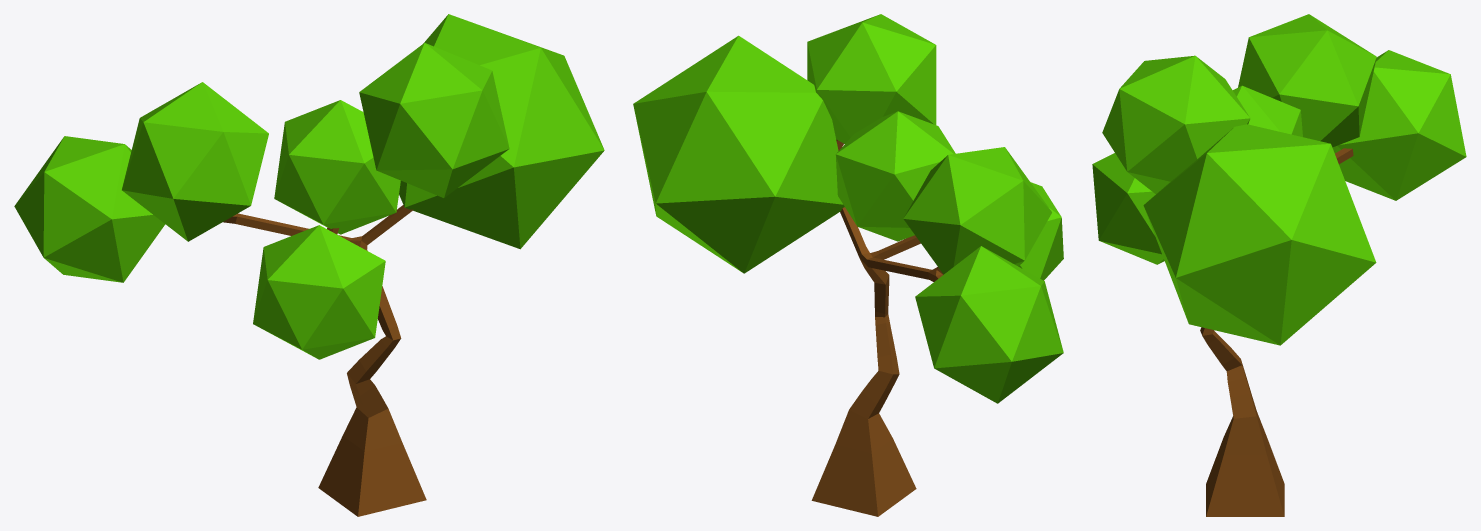
File: themiya.tree.fbx
3 renders of one model, left to right at view 1: azimuth 30°, elevation 25°; view 2: azimuth 150°, elevation 25°; view 3: azimuth 270°, elevation 25°, orthographic. The views are drawn at different scales.
Visible parts, largest first — view 1: Icosphere.004, Icosphere.003, Icosphere.005, Icosphere, Icosphere.001, Cube, Icosphere.006; view 2: Icosphere.004, Icosphere, Icosphere.005, Cube, Icosphere.003, Icosphere.006, Icosphere.001; view 3: Icosphere.004, Icosphere.003, Icosphere, Icosphere.005, Cube, Icosphere.001, Icosphere.006.
Boxes of the visible parts, x1,y1,x2,y2 form: Icosphere.004: [399, 14, 604, 249]; Icosphere.003: [359, 43, 509, 197]; Icosphere.005: [122, 82, 268, 241]; Icosphere: [14, 136, 165, 282]; Icosphere.001: [253, 225, 385, 359]; Cube: [223, 205, 426, 516]; Icosphere.006: [274, 100, 400, 234]; Icosphere.004: [633, 35, 844, 273]; Icosphere: [915, 246, 1063, 403]; Icosphere.005: [903, 147, 1051, 274]; Cube: [811, 139, 943, 516]; Icosphere.003: [807, 14, 936, 143]; Icosphere.006: [835, 111, 955, 241]; Icosphere.001: [1018, 182, 1063, 280]; Icosphere.004: [1143, 124, 1376, 345]; Icosphere.003: [1102, 55, 1250, 193]; Icosphere: [1332, 50, 1466, 200]; Icosphere.005: [1238, 14, 1376, 147]; Cube: [1200, 148, 1353, 516]; Icosphere.001: [1092, 153, 1164, 264]; Icosphere.006: [1233, 85, 1302, 136].
Size of the model in its own units: 1089 by 998 by 740.
